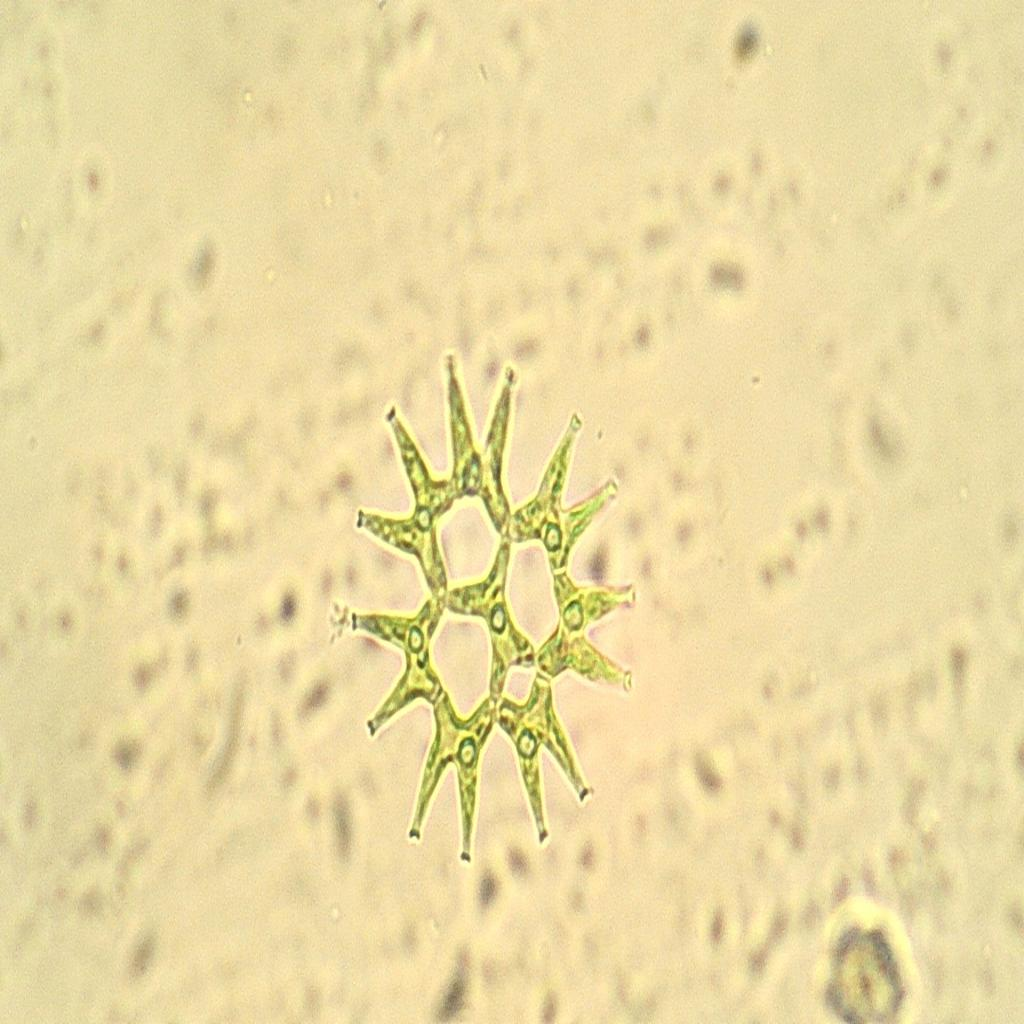Pediastrum_1T: (326, 321, 666, 904)
